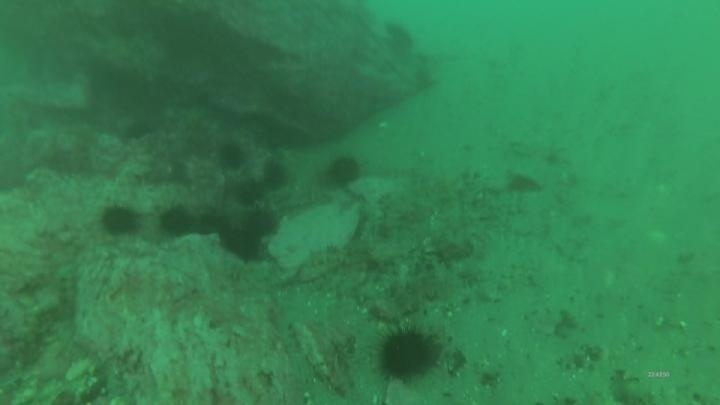echinus: (373, 323, 443, 385), (218, 222, 265, 263), (322, 153, 364, 190), (99, 202, 141, 239), (240, 205, 281, 242), (157, 204, 197, 240), (195, 206, 234, 242), (382, 20, 417, 59), (215, 139, 248, 172), (259, 157, 291, 191), (233, 177, 267, 209)
